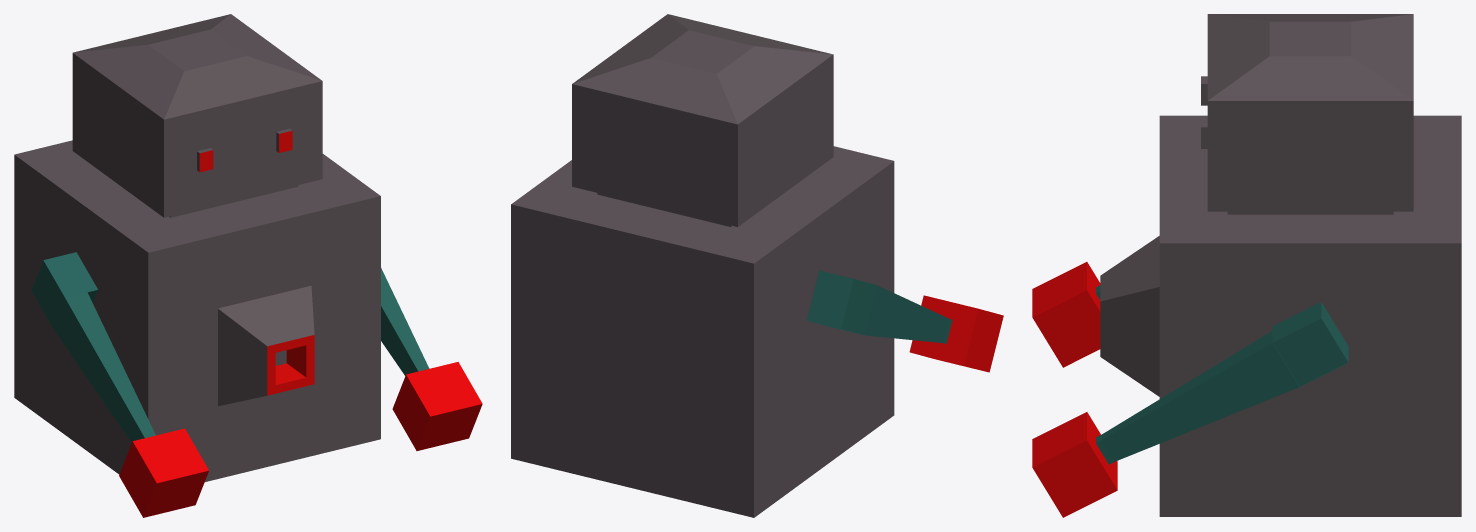
File: Boss4.fbx
3 views of the same model, side by side, from view 1: azimuth 30°, elevation 25°; view 2: azimuth 150°, elevation 25°; view 3: azimuth 270°, elevation 25° (orthographic). The views are drawn at different scales.
Visible parts, largest first — view 1: Cube, Cube.001, Cube.002; view 2: Cube, Cube.001; view 3: Cube, Cube.002, Cube.001.
Part boxes in pixels (x1,y1,x2,y2): Cube: [14, 14, 380, 481]; Cube.001: [31, 252, 208, 517]; Cube.002: [381, 268, 482, 450]; Cube: [511, 14, 894, 517]; Cube.001: [806, 270, 1003, 372]; Cube: [1100, 14, 1461, 516]; Cube.002: [1032, 302, 1348, 517]; Cube.001: [1032, 262, 1100, 367].
Size of the model in its own units: 280 by 303 by 284.
